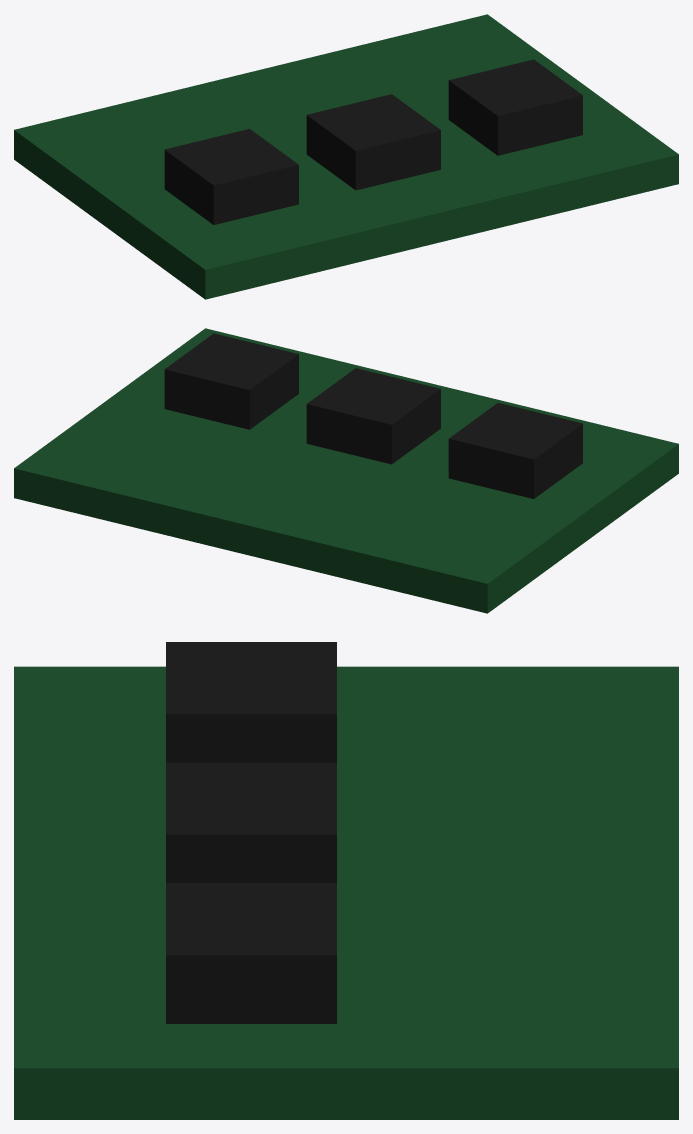
File: phone_board.glb
3 renders of one model, top to bottom at view 1: azimuth 30°, elevation 25°; view 2: azimuth 150°, elevation 25°; view 3: azimuth 270°, elevation 25°, orthographic. The views are drawn at different scales.
Visible parts, largest first — view 1: phone_board; view 2: phone_board; view 3: phone_board.
Part boxes in pixels (x1,y1,x2,y2): phone_board: [14, 14, 678, 299]; phone_board: [14, 328, 678, 613]; phone_board: [14, 642, 678, 1119].
Bounding box in the file's own units: 0.1 × 0.014 × 0.07.
